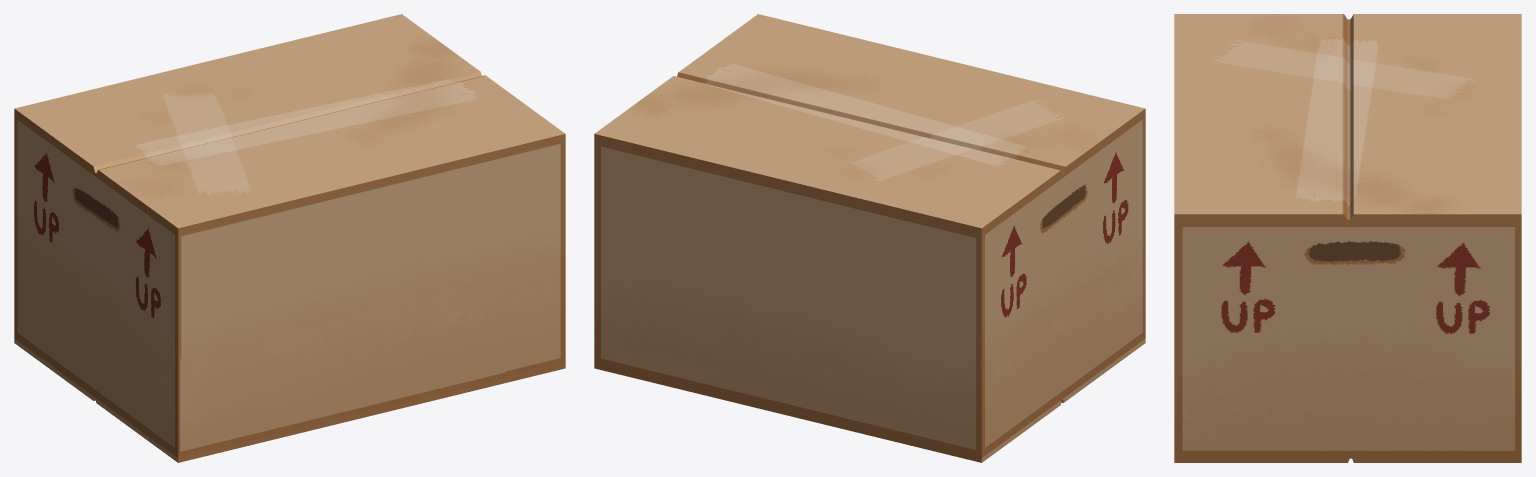
File: CardboardBox_Closed.fbx
The picture shows the model from 3 angles, left to right: view 1: azimuth 30°, elevation 25°; view 2: azimuth 150°, elevation 25°; view 3: azimuth 270°, elevation 25°; orthographic projection. The views are drawn at different scales.
Parts seen in each view (by area): view 1: Cube; view 2: Cube; view 3: Cube.
Part boxes in pixels (x1,y1,x2,y2): Cube: (14,14,565,462); Cube: (594,14,1145,462); Cube: (1174,14,1521,462).
Bounding box in the file's own units: 405 × 234 × 297.
